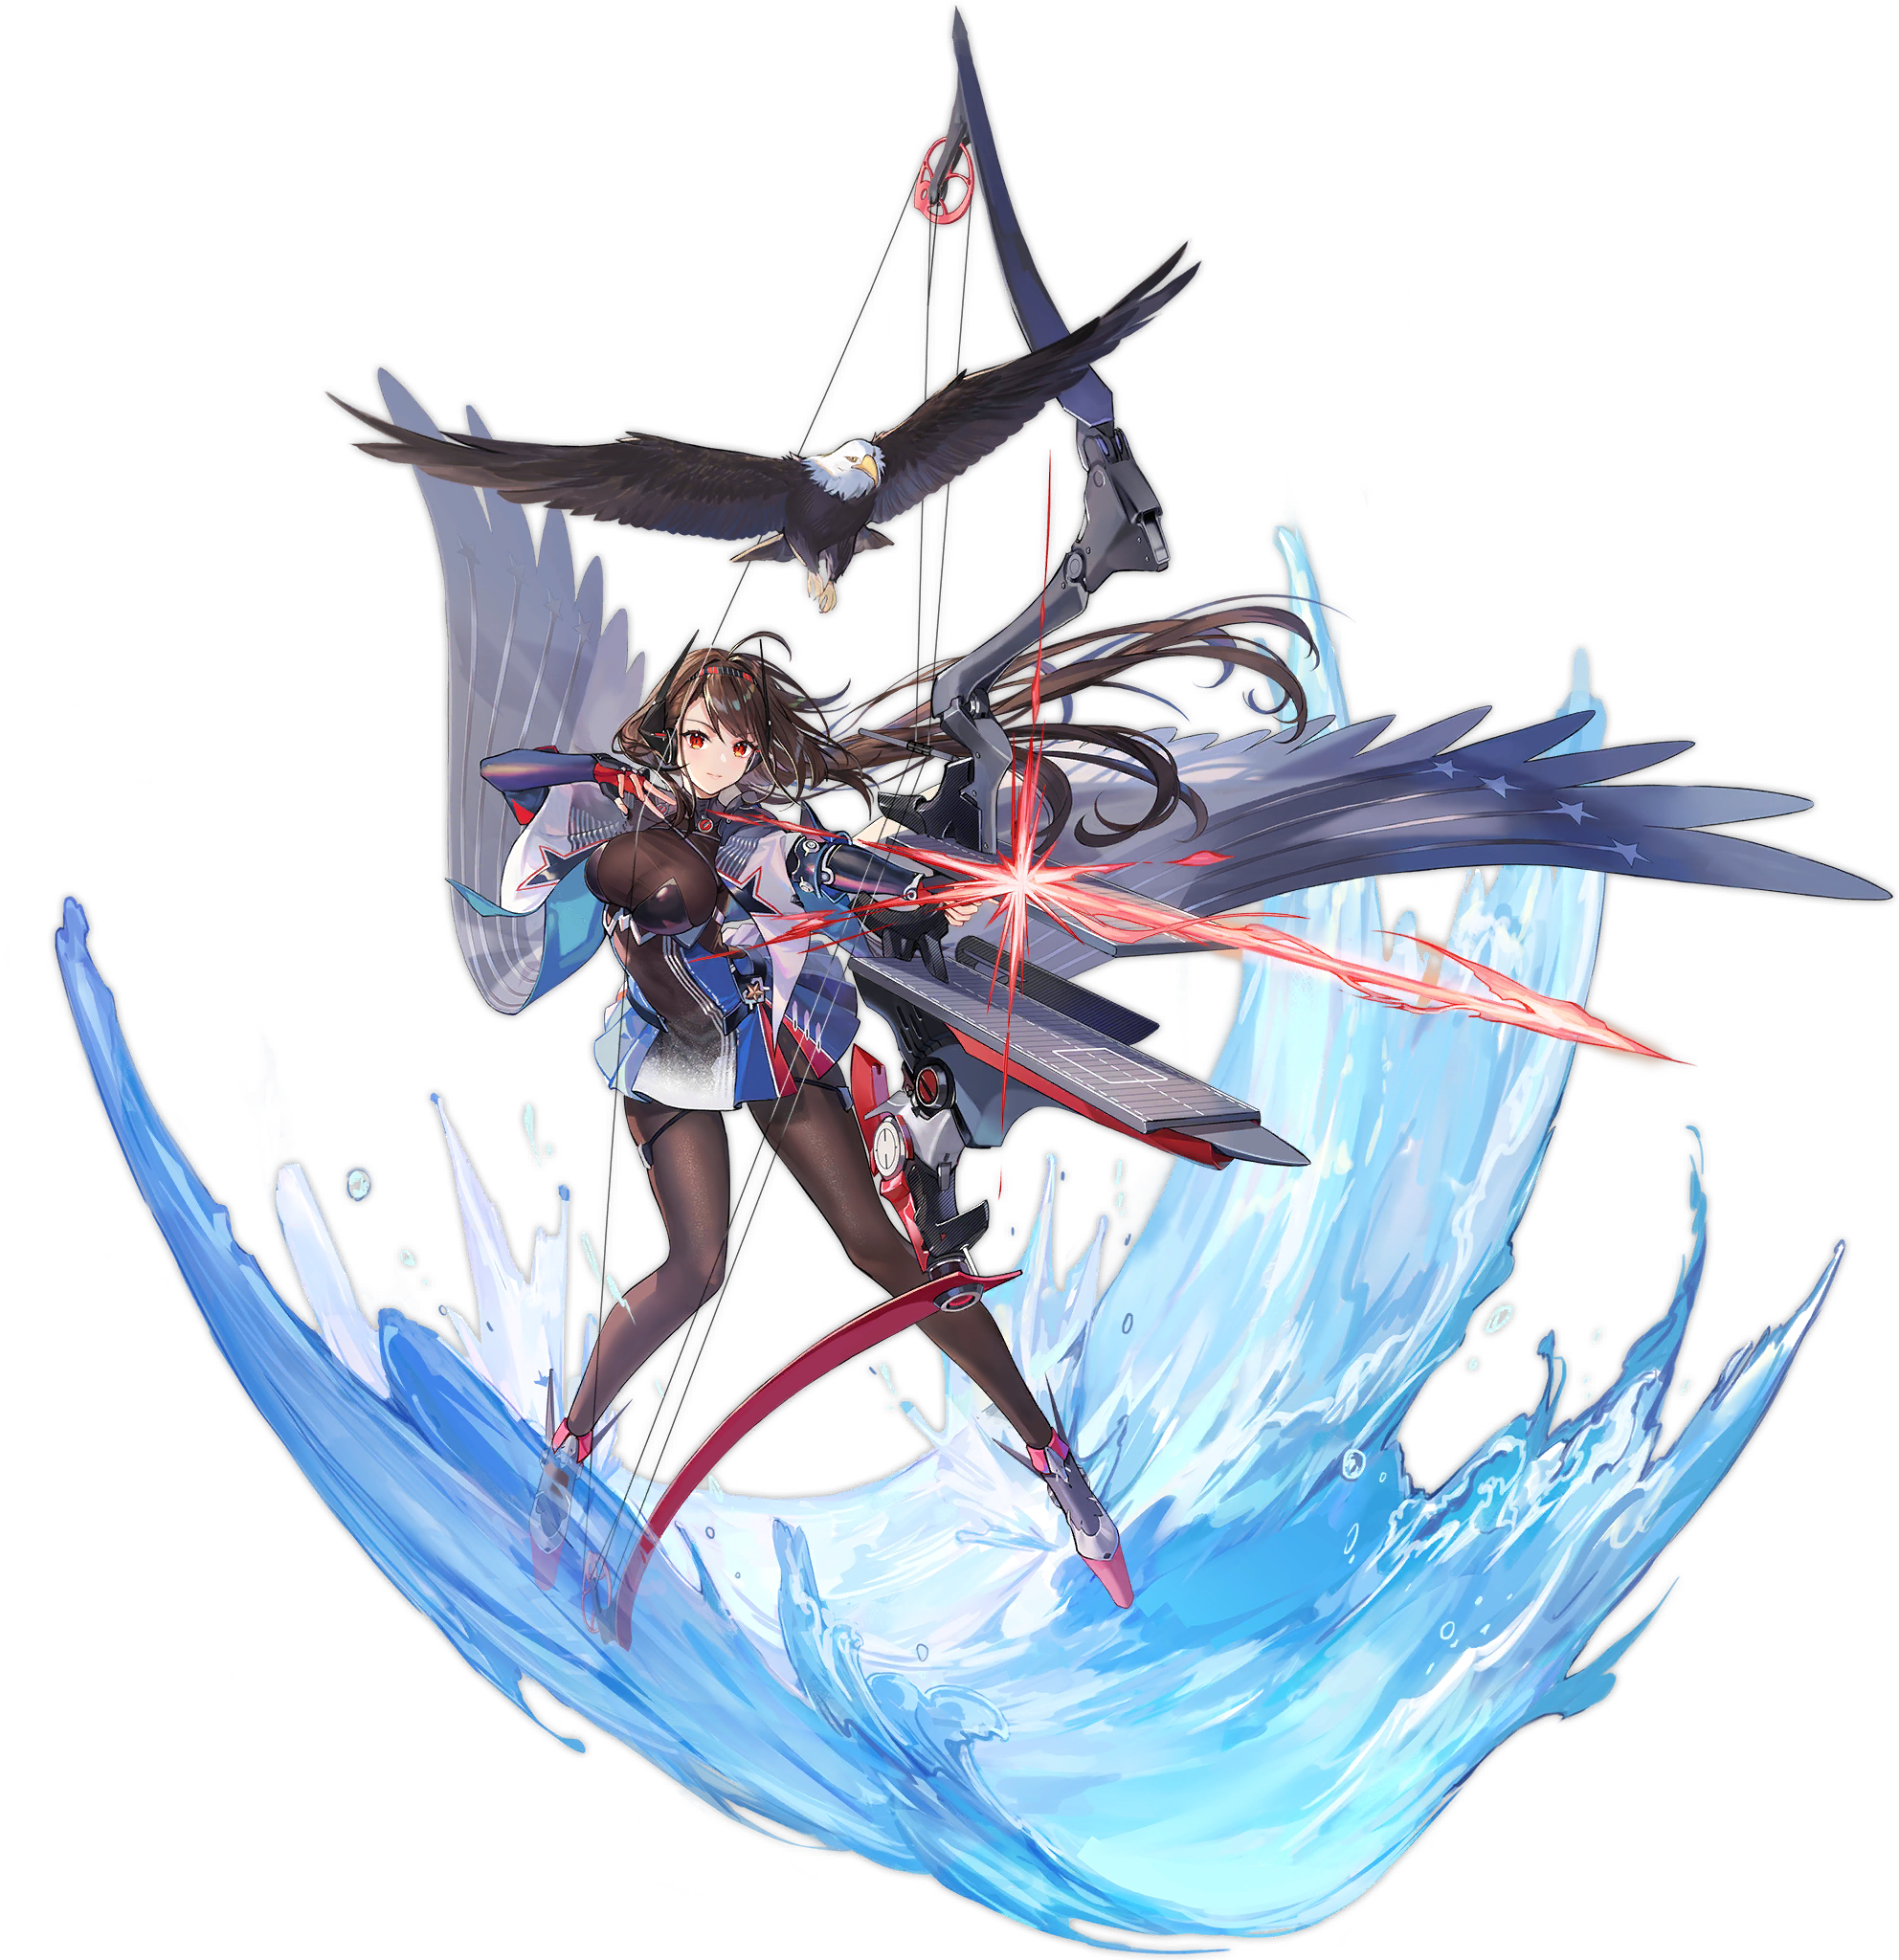person: (455, 637, 969, 1406)
